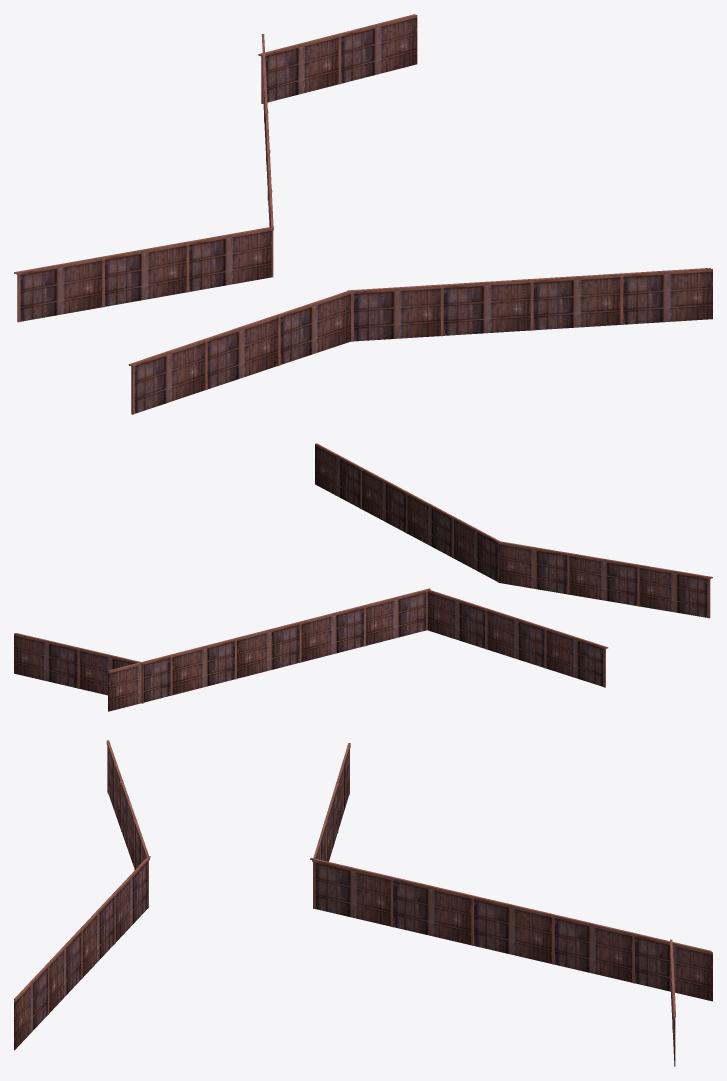
File: Wood Border.fbx
3 views of the same model, one above another, from view 1: azimuth 30°, elevation 25°; view 2: azimuth 150°, elevation 25°; view 3: azimuth 270°, elevation 25° (orthographic). The views are drawn at different scales.
Parts seen in each view (by area): view 1: Wood_Border; view 2: Wood_Border; view 3: Wood_Border.
Part boxes in pixels (x1,y1,x2,y2): Wood_Border: [14, 14, 712, 414]; Wood_Border: [14, 443, 712, 711]; Wood_Border: [14, 740, 712, 1066].
Size of the model in its own units: 49.31 by 4.25 by 52.46.
